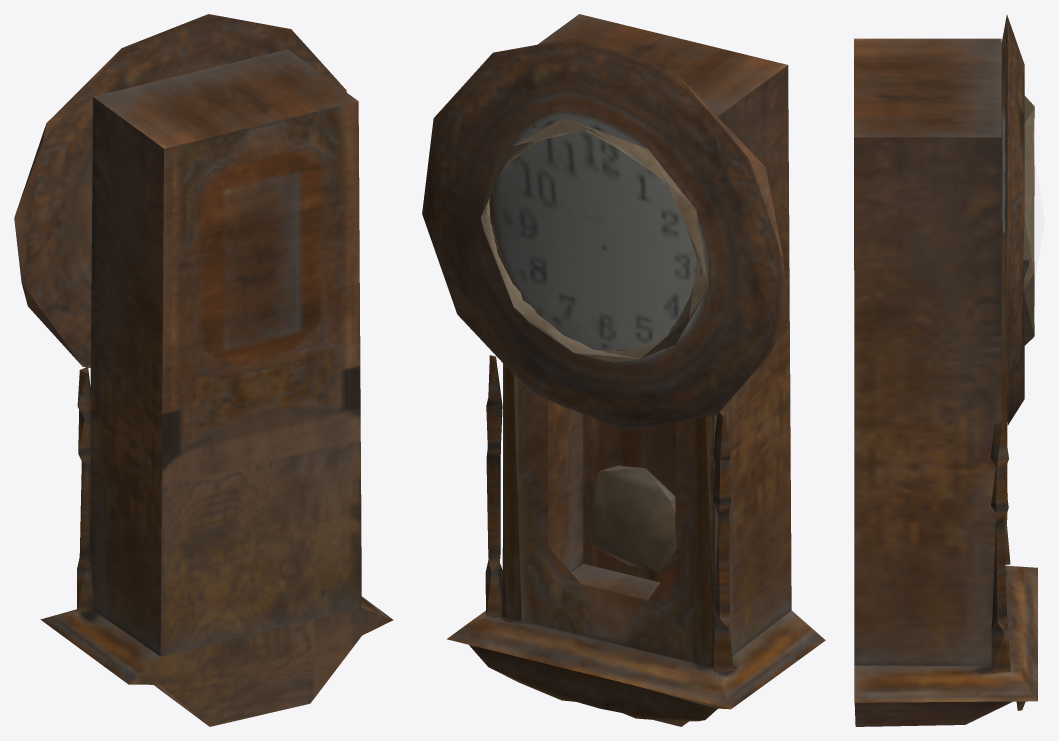
The model's file is clock-wall-pendulum.lod1.glb.
3 views of the same model, side by side, from view 1: azimuth 30°, elevation 25°; view 2: azimuth 150°, elevation 25°; view 3: azimuth 270°, elevation 25° (orthographic). The views are drawn at different scales.
Parts seen in each view (by area): view 1: clock-wall-pendulum; view 2: clock-wall-pendulum; view 3: clock-wall-pendulum.
Boxes of the visible parts, box(x1,y1,x2,y2) form: clock-wall-pendulum: box(14, 14, 393, 726); clock-wall-pendulum: box(422, 14, 825, 726); clock-wall-pendulum: box(854, 15, 1037, 726).
Bounding box in the file's own units: 0.4397 × 0.7924 × 0.2053.
3 materials, 2 textured.
